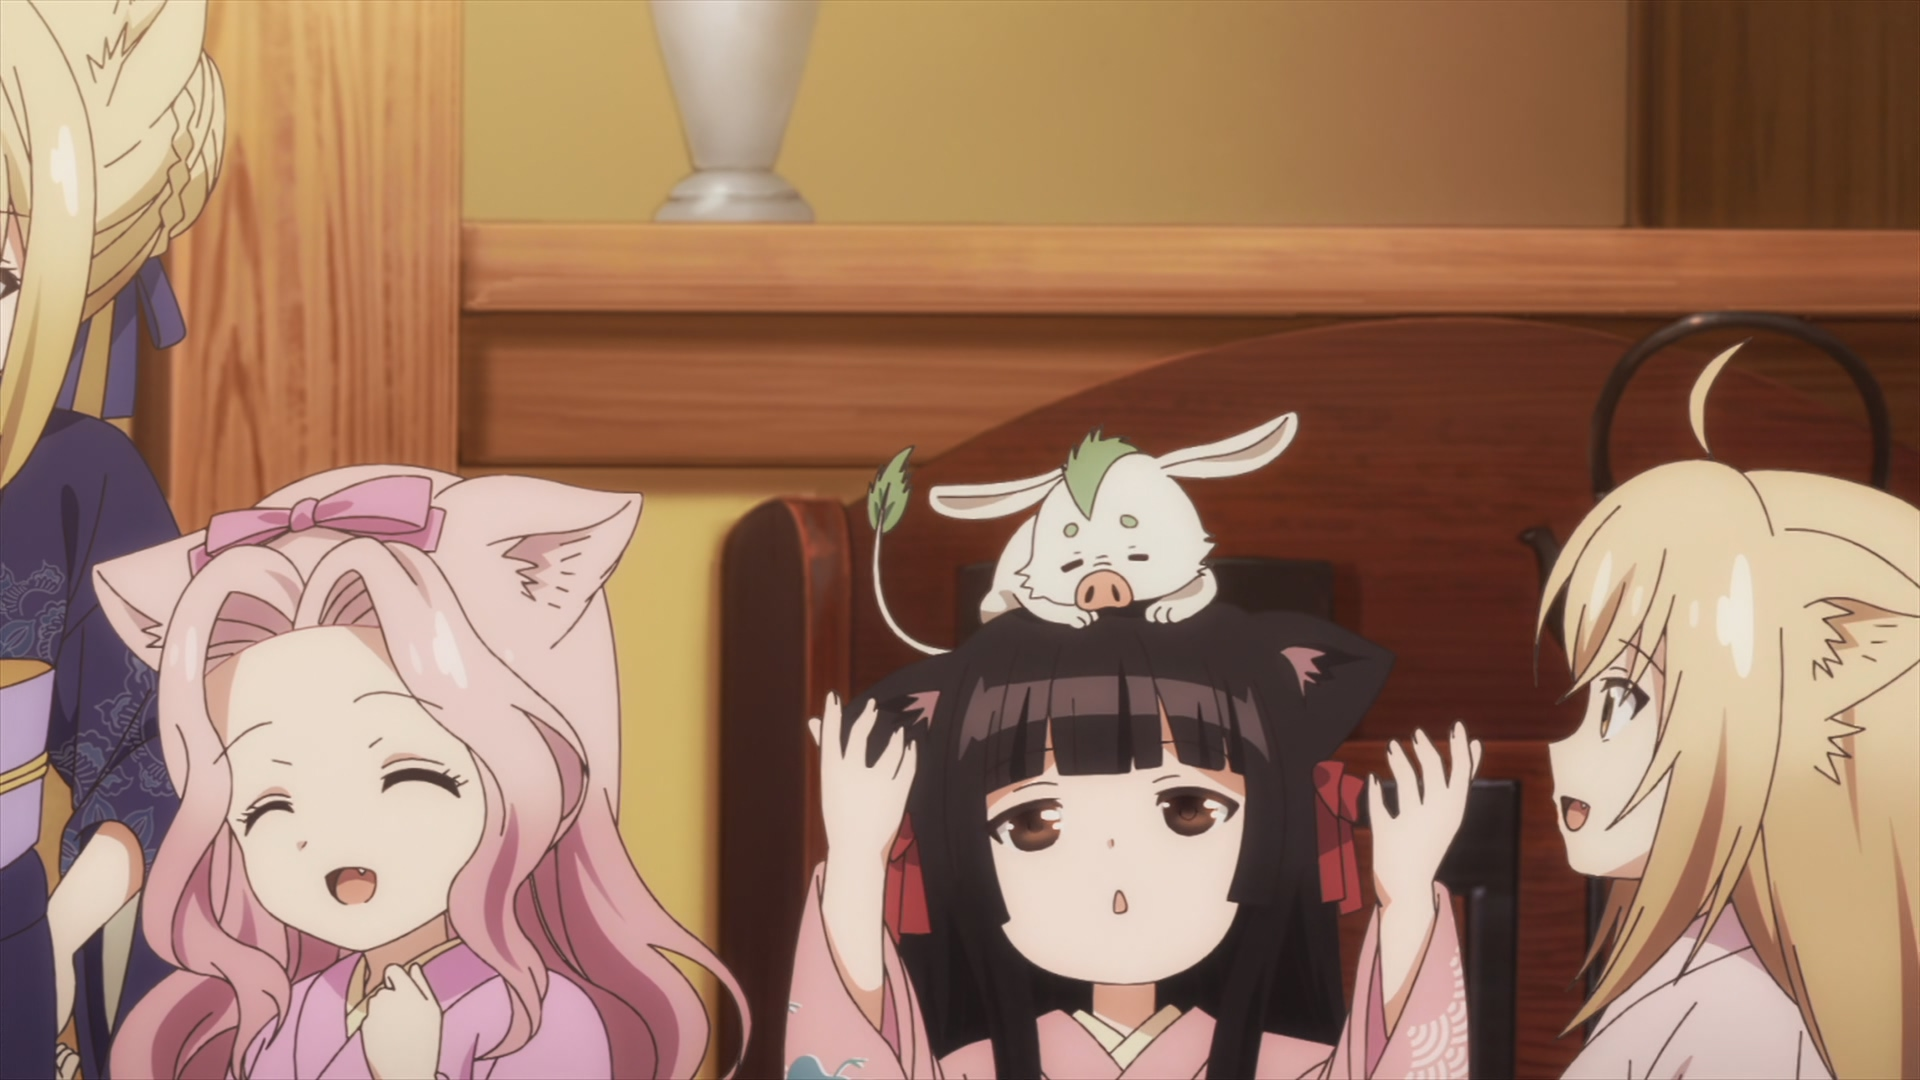柚: (1538, 344, 1920, 1080)
桐: (1, 1, 225, 1077)
樱: (785, 605, 1489, 1080)
瓜之介: (868, 411, 1298, 657)
莲: (94, 463, 748, 1080)
